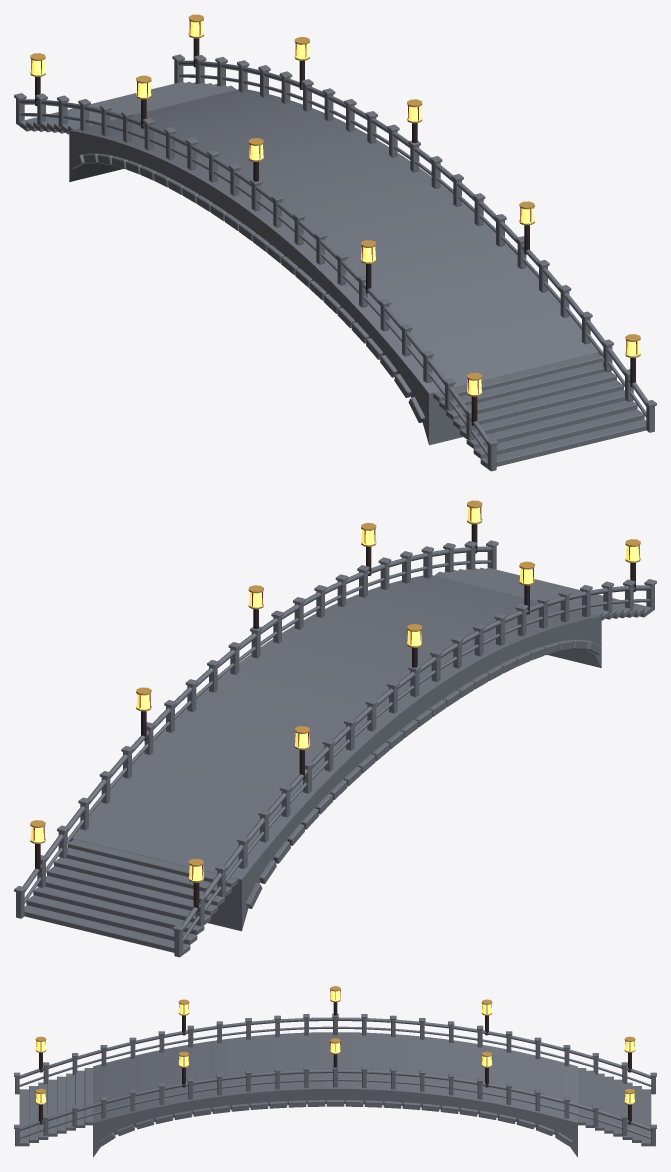
The model's file is model-bridge.glb.
3 renders of one model, top to bottom at view 1: azimuth 30°, elevation 25°; view 2: azimuth 150°, elevation 25°; view 3: azimuth 270°, elevation 25°, orthographic. The views are drawn at different scales.
Parts seen in each view (by area): view 1: model-bridge; view 2: model-bridge; view 3: model-bridge.
Boxes of the visible parts, <box> form: model-bridge: <box>14,14,656,471</box>; model-bridge: <box>14,500,656,957</box>; model-bridge: <box>14,986,656,1157</box>.
Bounding box in the file's own units: 6.5 × 5.87 × 29.7.
